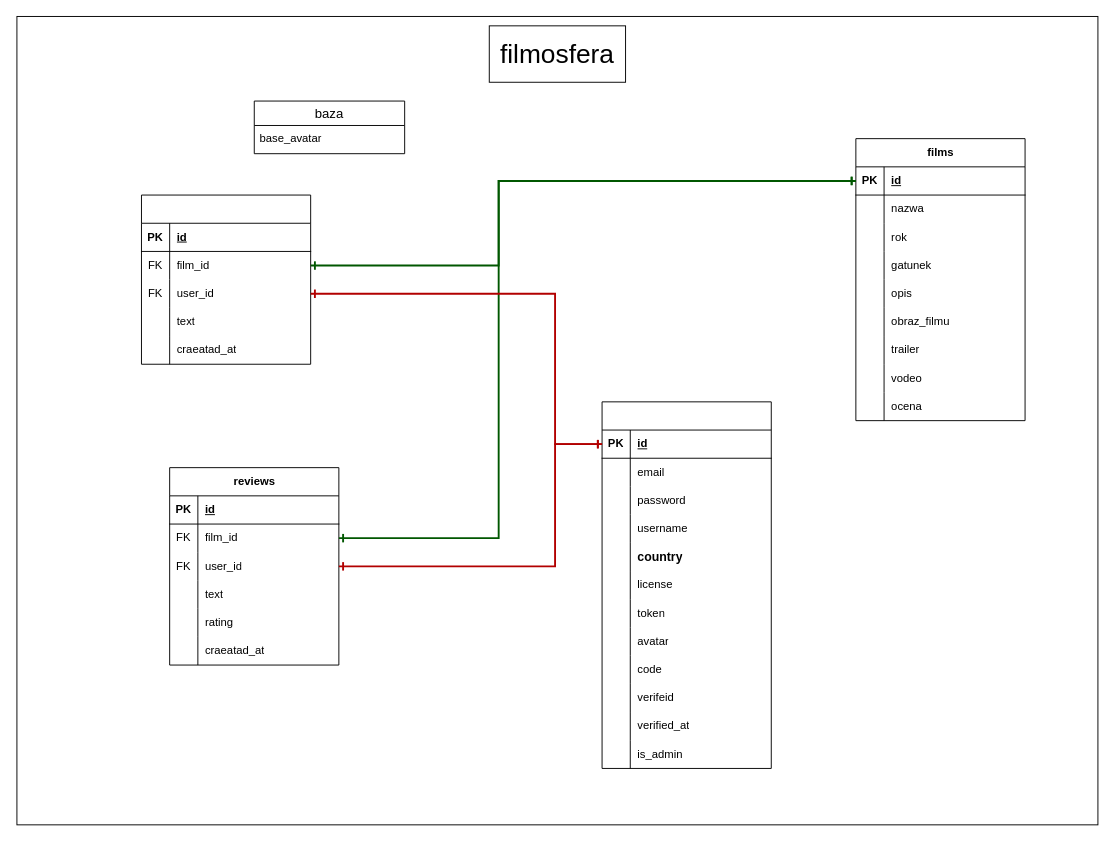
Image size: 1114x841. Some labels were removed from this diagram. The shapes that lost their labels are listed below. From the top down, each one's box as (x1, y1, x2, y2) in pixels, then its label:
(141, 194, 311, 364): comments
(601, 401, 771, 768): users
